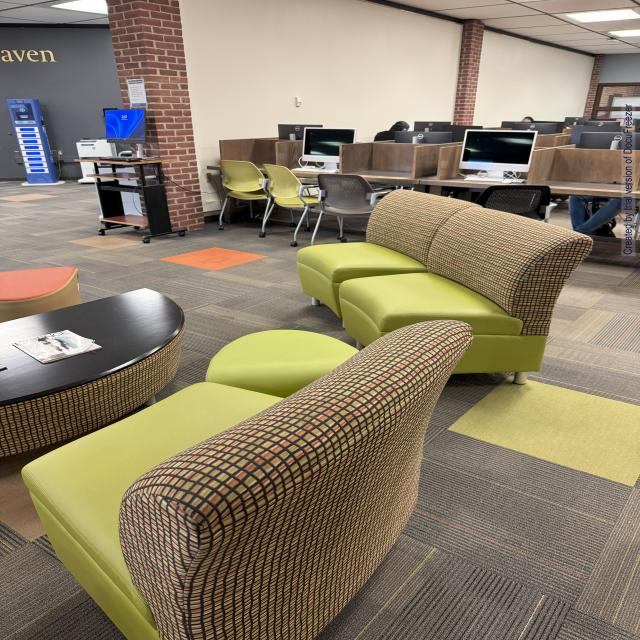Table: (3, 285, 196, 466)
chair: (6, 327, 478, 640), (282, 182, 582, 386), (17, 286, 18, 309)
